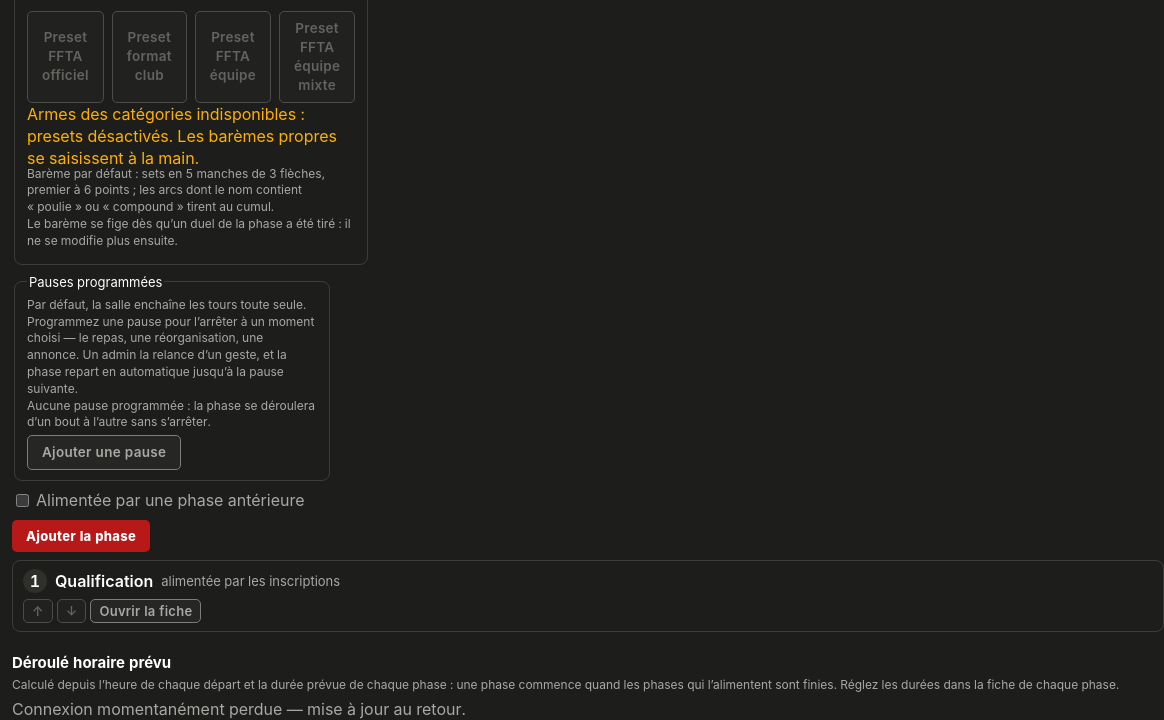
Test: le découpage en tours sur l’écran des phases › annonce ce que le découpage donne, sur le barème RÉEL du tournoi
The image size is (1164, 720).
(page scrolled)
Click the button "Ouvrir la fiche".
click(146, 611)  # box [90,599,201,623]
(page scrolled)
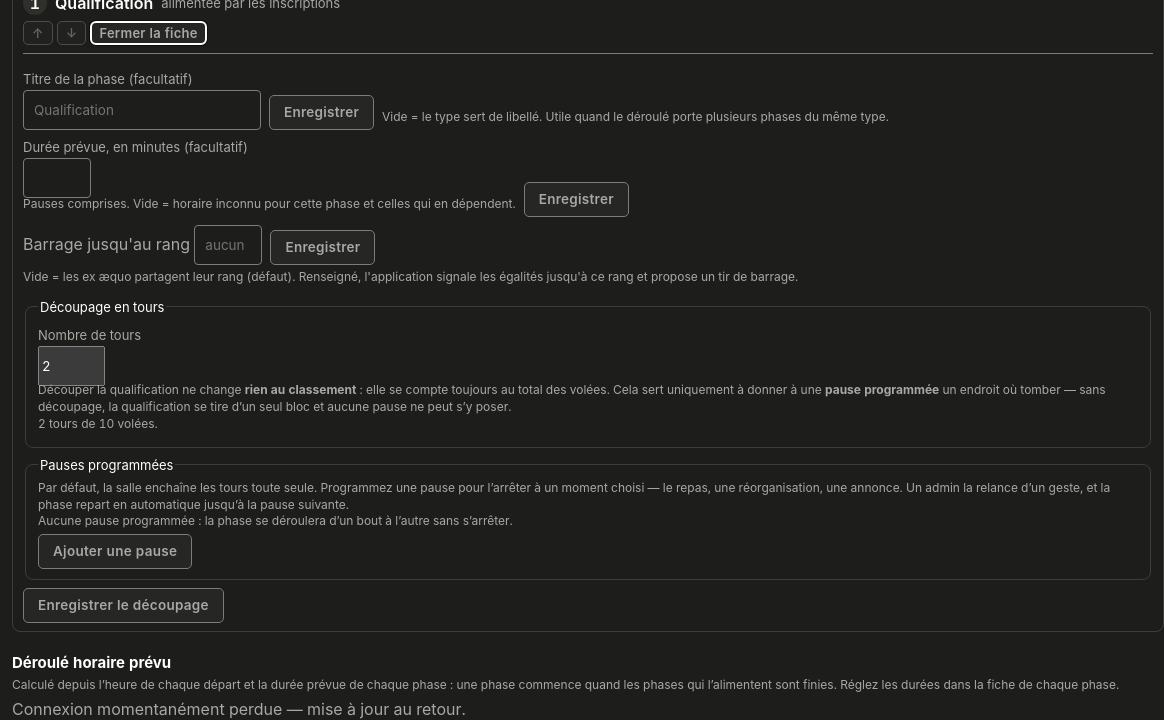
Expected: the text "2 tours de 10 volées." is shown, [38,416,158,431]
